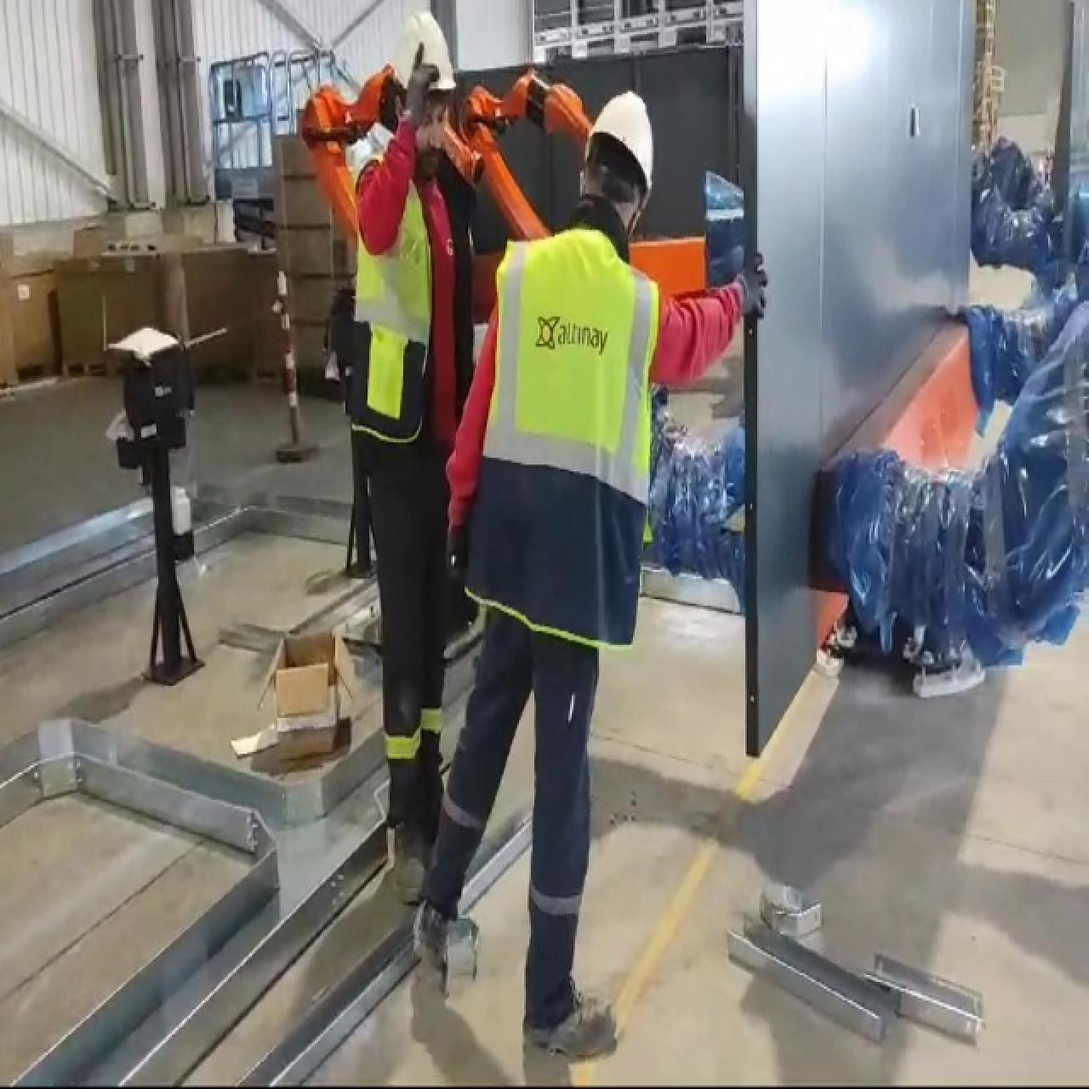Person: (425, 59, 753, 1065), (313, 0, 505, 915)
Safety_Vest: (459, 233, 659, 666), (336, 132, 480, 456)
